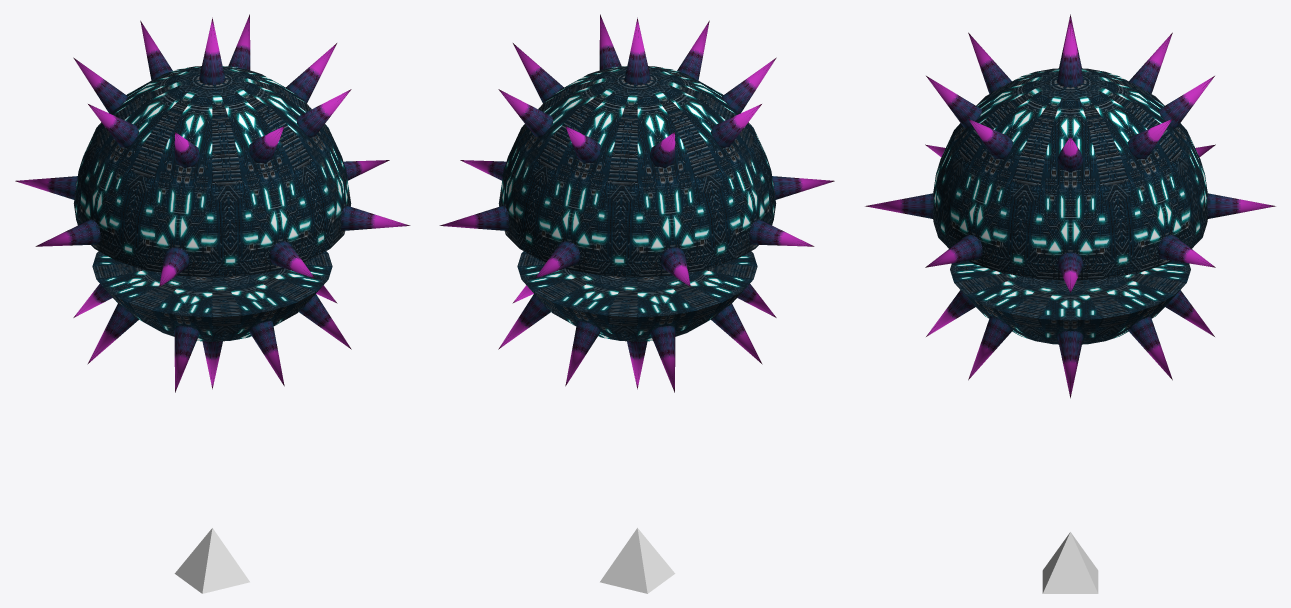
Rendered from coseeker00.FBX.
3 renders of one model, left to right at view 1: azimuth 30°, elevation 25°; view 2: azimuth 150°, elevation 25°; view 3: azimuth 270°, elevation 25°, orthographic.
Parts seen in each view (by area): view 1: coseeker00, spike, hp_dummyroot; view 2: coseeker00, spike, hp_dummyroot; view 3: coseeker00, spike, hp_dummyroot.
Part boxes in pixels (box(x1,y1,x2,y2)): coseeker00: box(73, 66, 351, 341); spike: box(15, 14, 410, 392); hp_dummyroot: box(174, 528, 249, 593); coseeker00: box(498, 66, 776, 341); spike: box(439, 14, 834, 392); hp_dummyroot: box(600, 528, 675, 593); coseeker00: box(933, 68, 1207, 344); spike: box(865, 14, 1275, 398); hp_dummyroot: box(1042, 532, 1098, 593).
Size of what is drawn, in the model's own units: 7.4 by 7.4 by 11.15.
